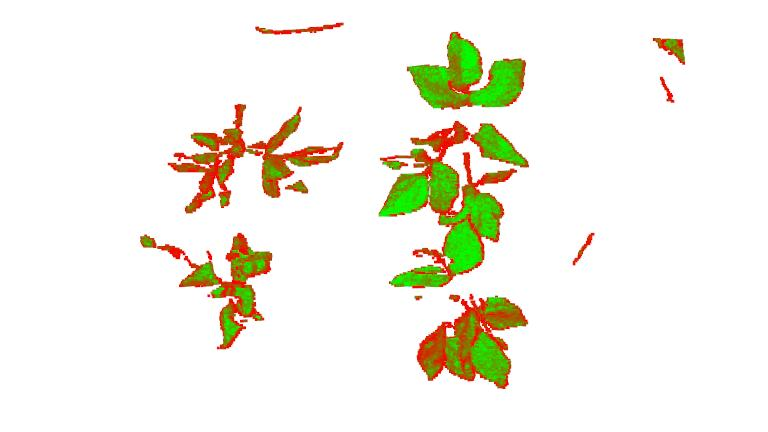mungbean: (379, 31, 532, 234), (386, 214, 531, 389), (166, 103, 342, 214), (138, 231, 277, 351)
